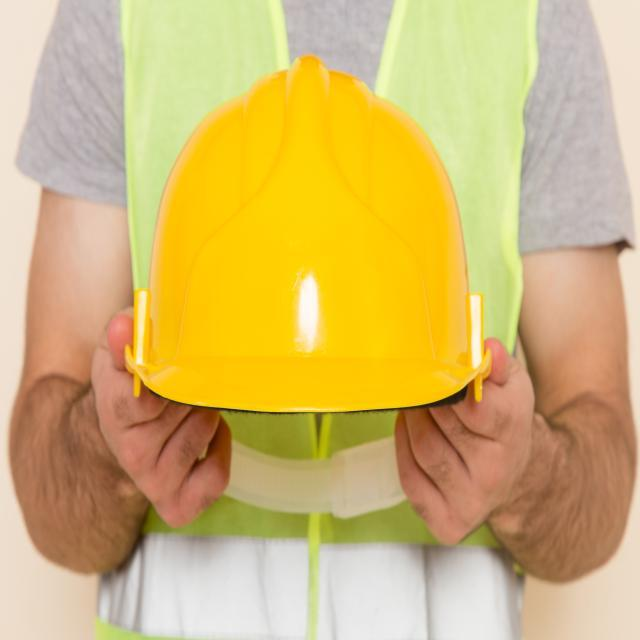helmet: (136, 90, 483, 407)
